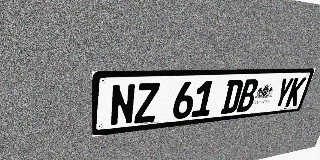1: (191, 80, 216, 117)
6: (172, 81, 197, 120)
B: (236, 79, 260, 112)
D: (220, 79, 244, 114)
K: (285, 77, 307, 107)
N: (110, 83, 136, 126)
Y: (272, 78, 295, 108)
Z: (134, 83, 160, 124)
